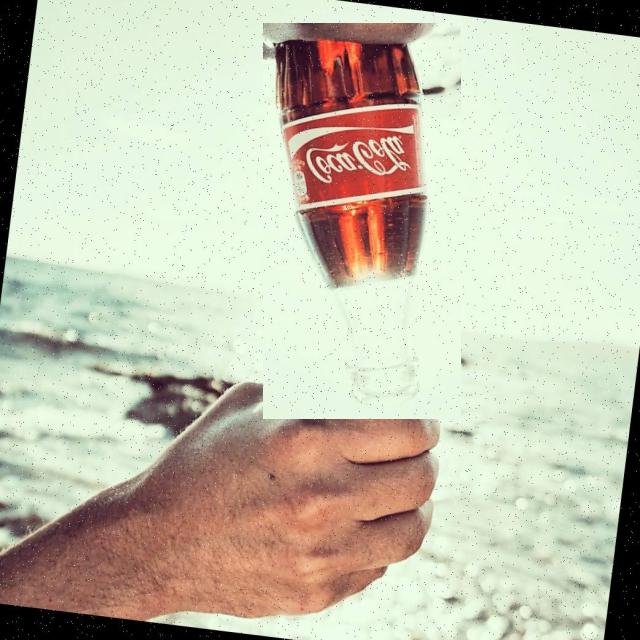coca-cola: (264, 23, 462, 420)
